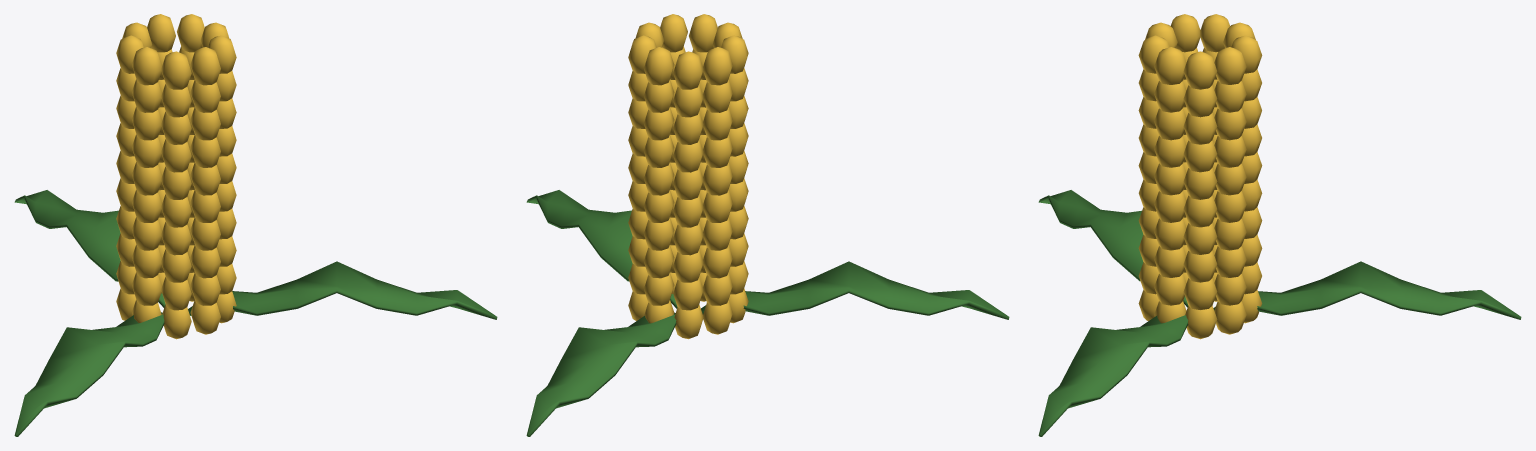
The model's file is corn.glb.
3 views of the same model, side by side, from view 1: azimuth 30°, elevation 25°; view 2: azimuth 150°, elevation 25°; view 3: azimuth 270°, elevation 25° (orthographic).
Parts seen in each view (by area): view 1: edible_husk.002, edible_husk.001, edible_husk, edible_kernel.086, edible_kernel.087, edible_kernel.088, edible_kernel.083, edible_kernel.082, edible_kernel.007, edible_kernel.060, edible_kernel.068, edible_kernel.052 (+24 smaller); view 2: edible_husk.001, edible_husk, edible_husk.002, edible_kernel.084, edible_kernel.083, edible_kernel.085, edible_kernel.088, edible_kernel.089, edible_kernel.004, edible_kernel.067, edible_kernel.057, edible_kernel.012 (+27 smaller); view 3: edible_husk, edible_husk.002, edible_husk.001, edible_kernel.081, edible_kernel.082, edible_kernel.089, edible_kernel.086, edible_kernel.085, edible_kernel.045, edible_kernel.036, edible_kernel.027, edible_kernel.063 (+25 smaller).
Part boxes in pixels (bbox=[...]): edible_husk.002: bbox=[188, 261, 497, 319]; edible_husk.001: bbox=[14, 312, 164, 436]; edible_husk: bbox=[14, 190, 165, 307]; edible_kernel.086: bbox=[132, 47, 161, 85]; edible_kernel.087: bbox=[161, 51, 191, 89]; edible_kernel.088: bbox=[190, 47, 220, 85]; edible_kernel.083: bbox=[147, 14, 175, 52]; edible_kernel.082: bbox=[177, 14, 204, 52]; edible_kernel.007: bbox=[190, 300, 220, 334]; edible_kernel.060: bbox=[161, 139, 191, 172]; edible_kernel.068: bbox=[132, 107, 161, 140]; edible_kernel.052: bbox=[190, 162, 220, 195]; edible_husk.001: bbox=[701, 261, 1009, 319]; edible_husk: bbox=[526, 312, 676, 436]; edible_husk.002: bbox=[526, 190, 677, 308]; edible_kernel.084: bbox=[673, 51, 703, 89]; edible_kernel.083: bbox=[644, 47, 674, 85]; edible_kernel.085: bbox=[703, 47, 732, 85]; edible_kernel.088: bbox=[689, 14, 717, 52]; edible_kernel.089: bbox=[660, 14, 687, 52]; edible_kernel.004: bbox=[703, 300, 732, 334]; edible_kernel.067: bbox=[703, 107, 732, 140]; edible_kernel.057: bbox=[673, 139, 703, 172]; edible_kernel.012: bbox=[673, 277, 703, 310]; edible_husk: bbox=[1213, 261, 1521, 319]; edible_husk.002: bbox=[1038, 315, 1188, 436]; edible_husk.001: bbox=[1038, 190, 1188, 307]; edible_kernel.081: bbox=[1183, 51, 1217, 89]; edible_kernel.082: bbox=[1214, 47, 1246, 84]; edible_kernel.089: bbox=[1154, 47, 1186, 84]; edible_kernel.086: bbox=[1171, 14, 1200, 52]; edible_kernel.085: bbox=[1200, 14, 1229, 52]; edible_kernel.045: bbox=[1183, 168, 1217, 199]; edible_kernel.036: bbox=[1183, 195, 1217, 227]; edible_kernel.027: bbox=[1183, 223, 1217, 254]; edible_kernel.063: bbox=[1183, 113, 1217, 144].
Size of the model in its own units: 0.3295 by 0.188 by 0.2858.
